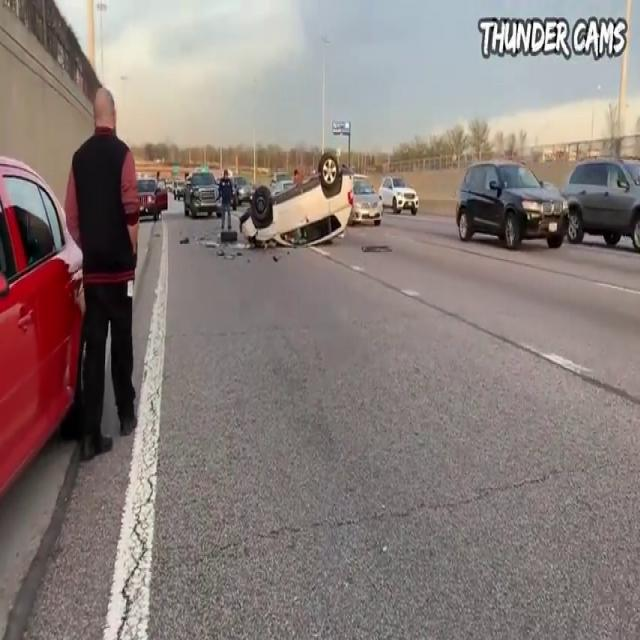accident: (236, 144, 360, 252)
